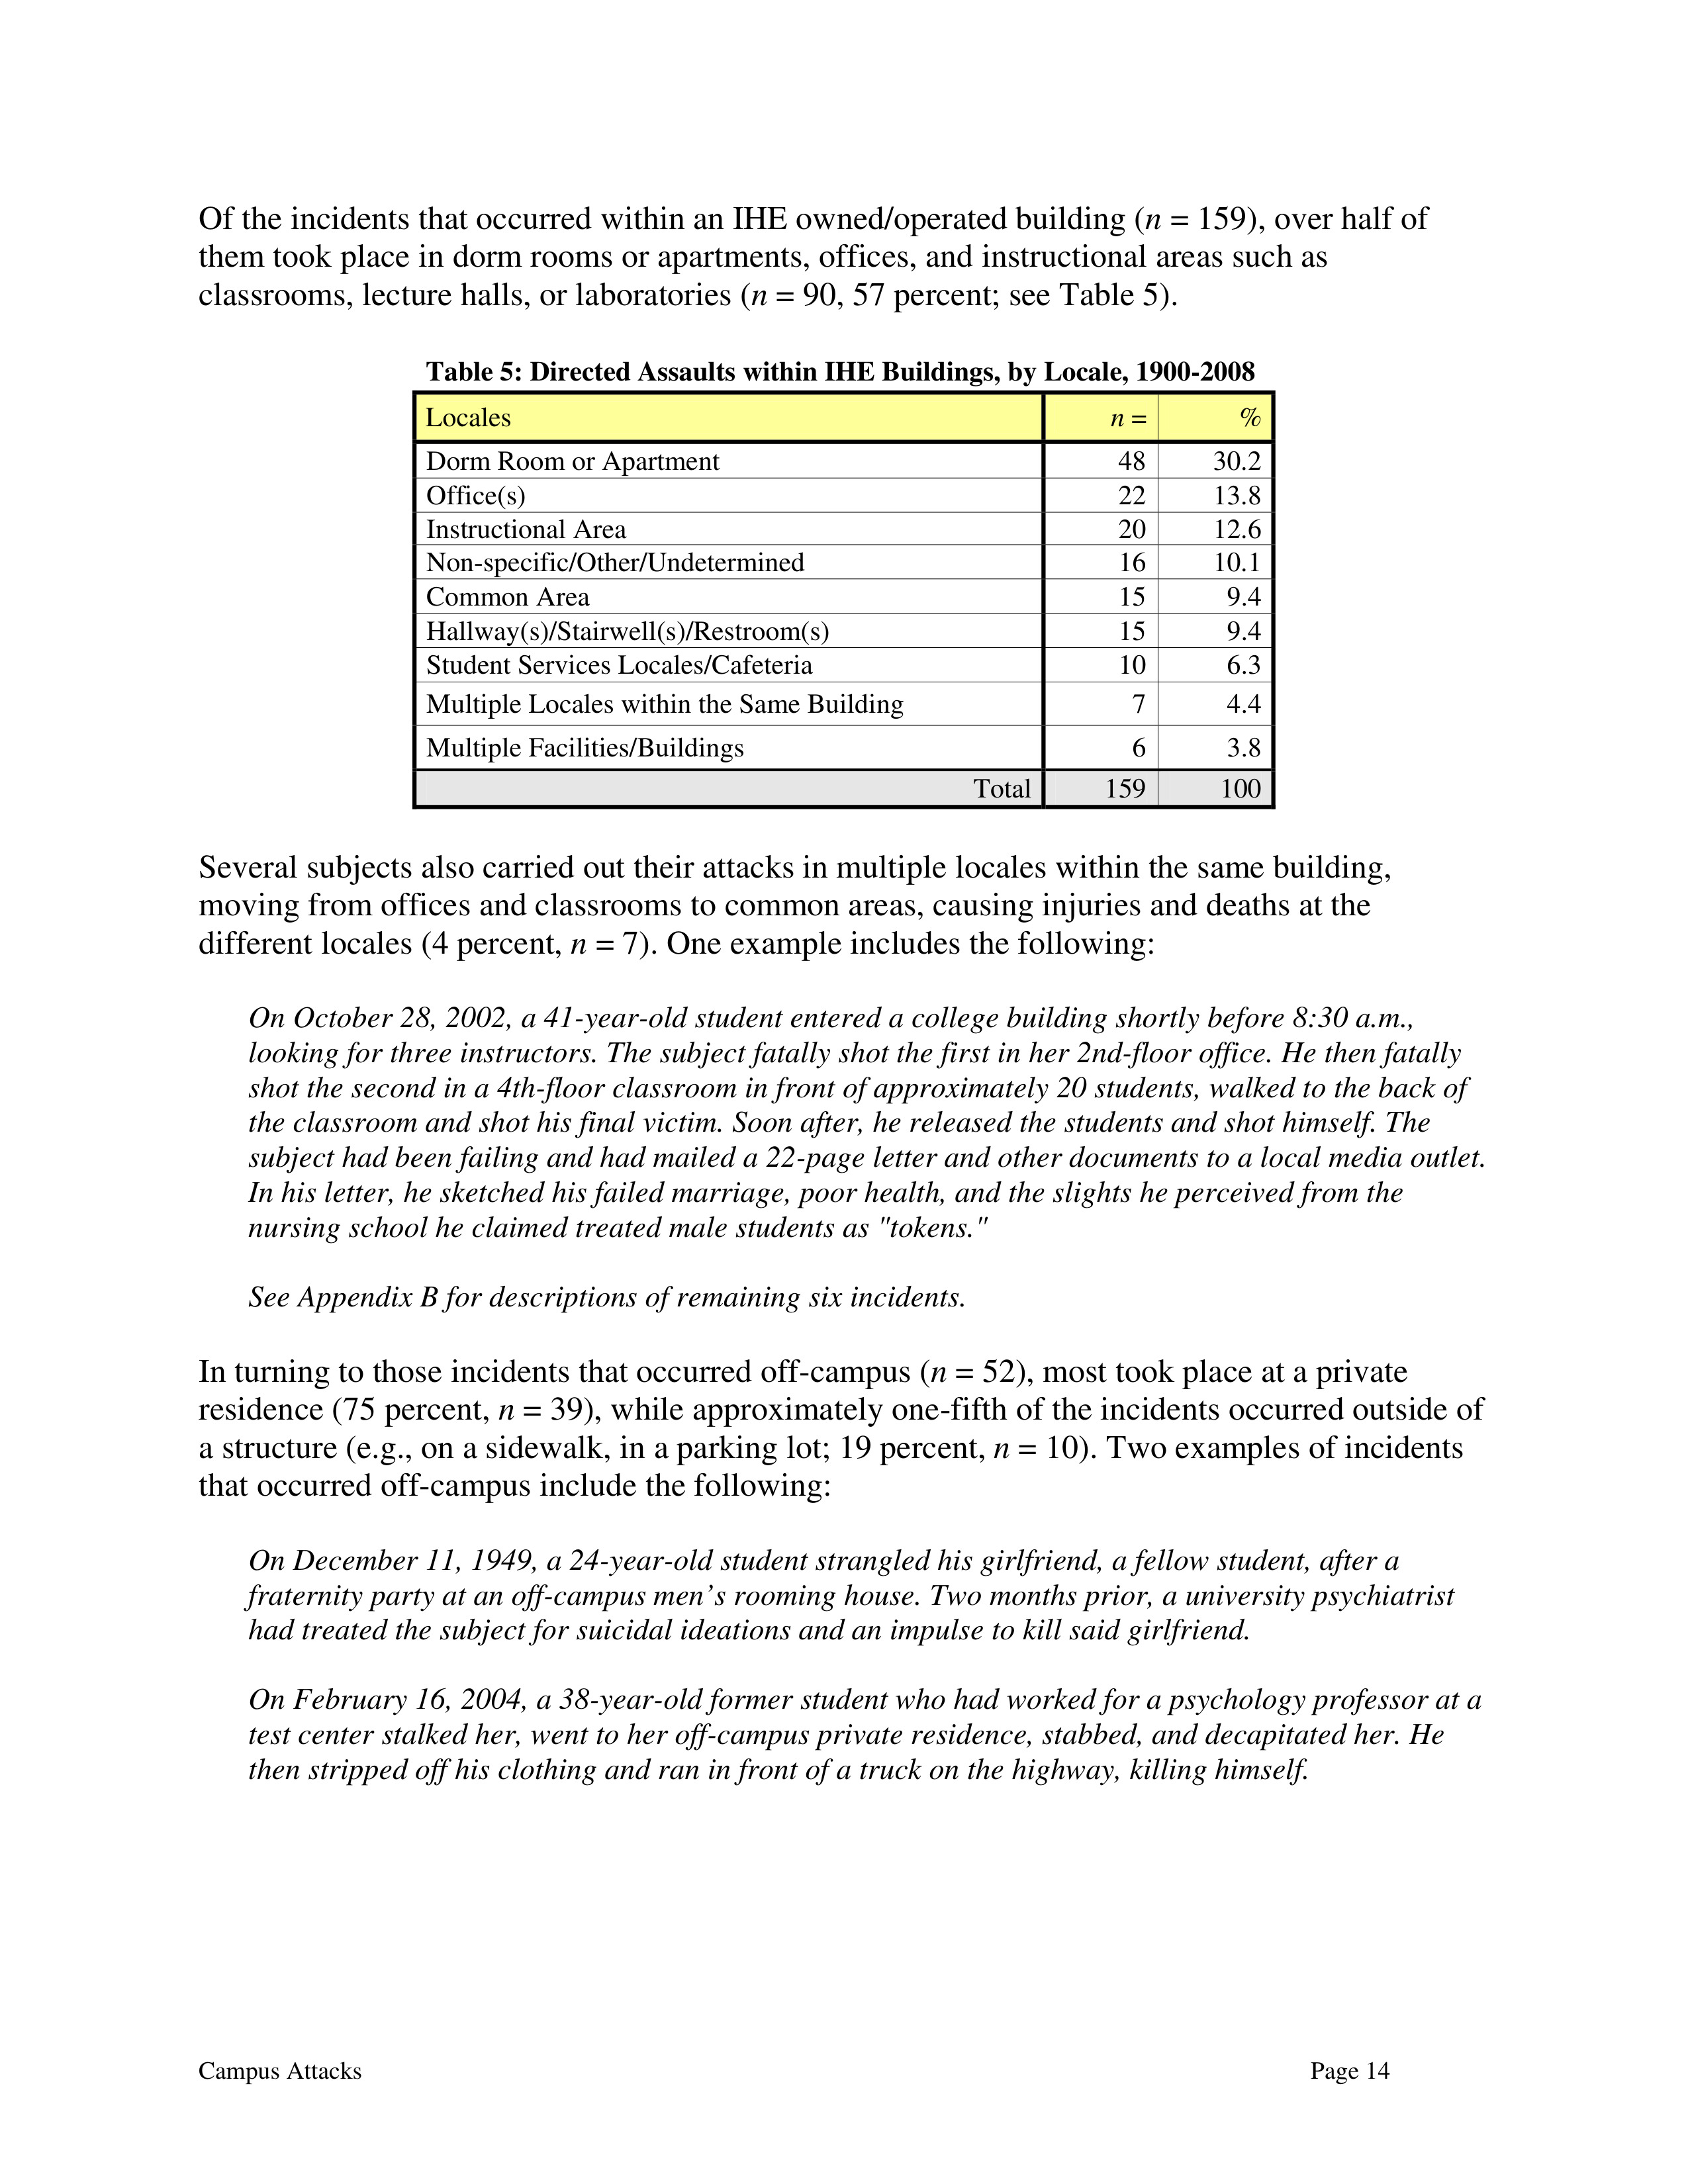table: (426, 397, 1262, 805)
